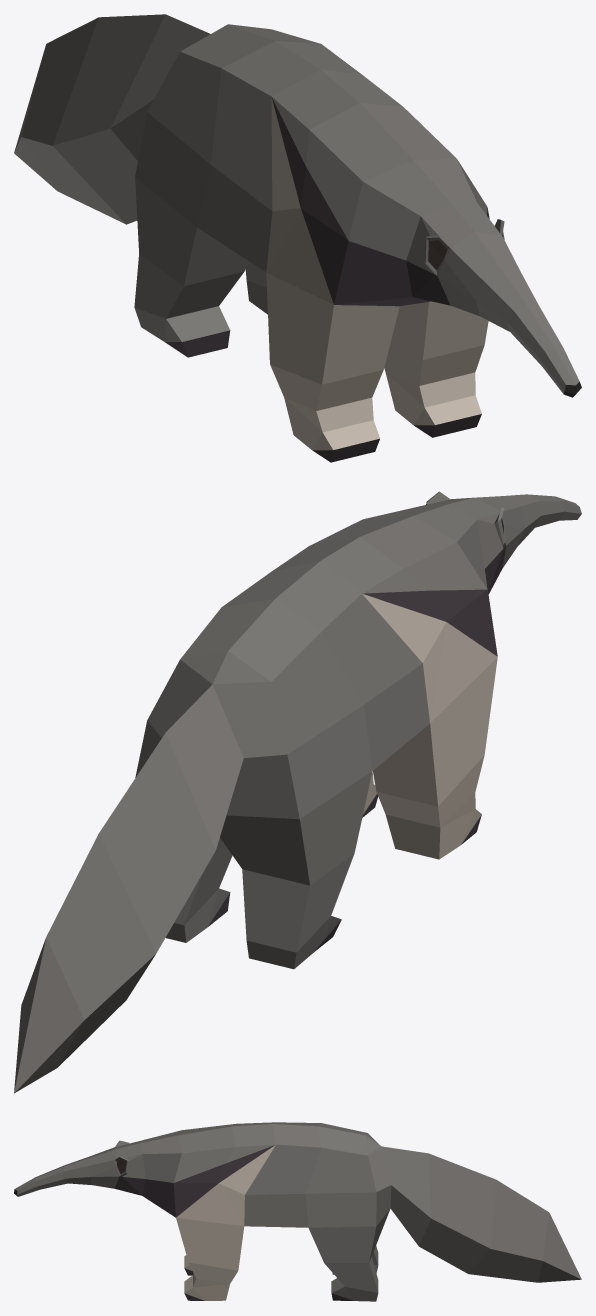
The model's file is Model_Ooarikui.fbx.
3 views of the same model, one above another, from view 1: azimuth 30°, elevation 25°; view 2: azimuth 150°, elevation 25°; view 3: azimuth 270°, elevation 25° (orthographic). The views are drawn at different scales.
Visible parts, largest first — view 1: Ooarikui; view 2: Ooarikui; view 3: Ooarikui.
Boxes of the visible parts, left/top/right/bottom form: Ooarikui: left=14, top=14, right=581, bottom=462; Ooarikui: left=14, top=491, right=581, bottom=1093; Ooarikui: left=14, top=1122, right=581, bottom=1301.
Bounding box in the file's own units: 50.23 × 86.12 × 279.
